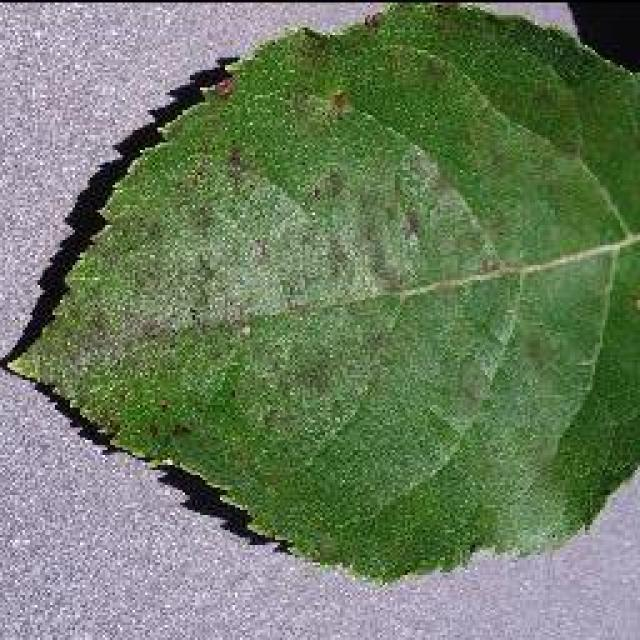Apple___Apple_scab: (3, 0, 638, 589)
